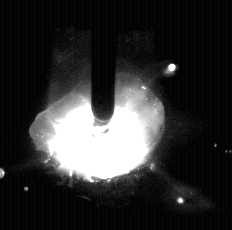arame: (91, 0, 116, 126)
poca: (29, 0, 164, 230)
